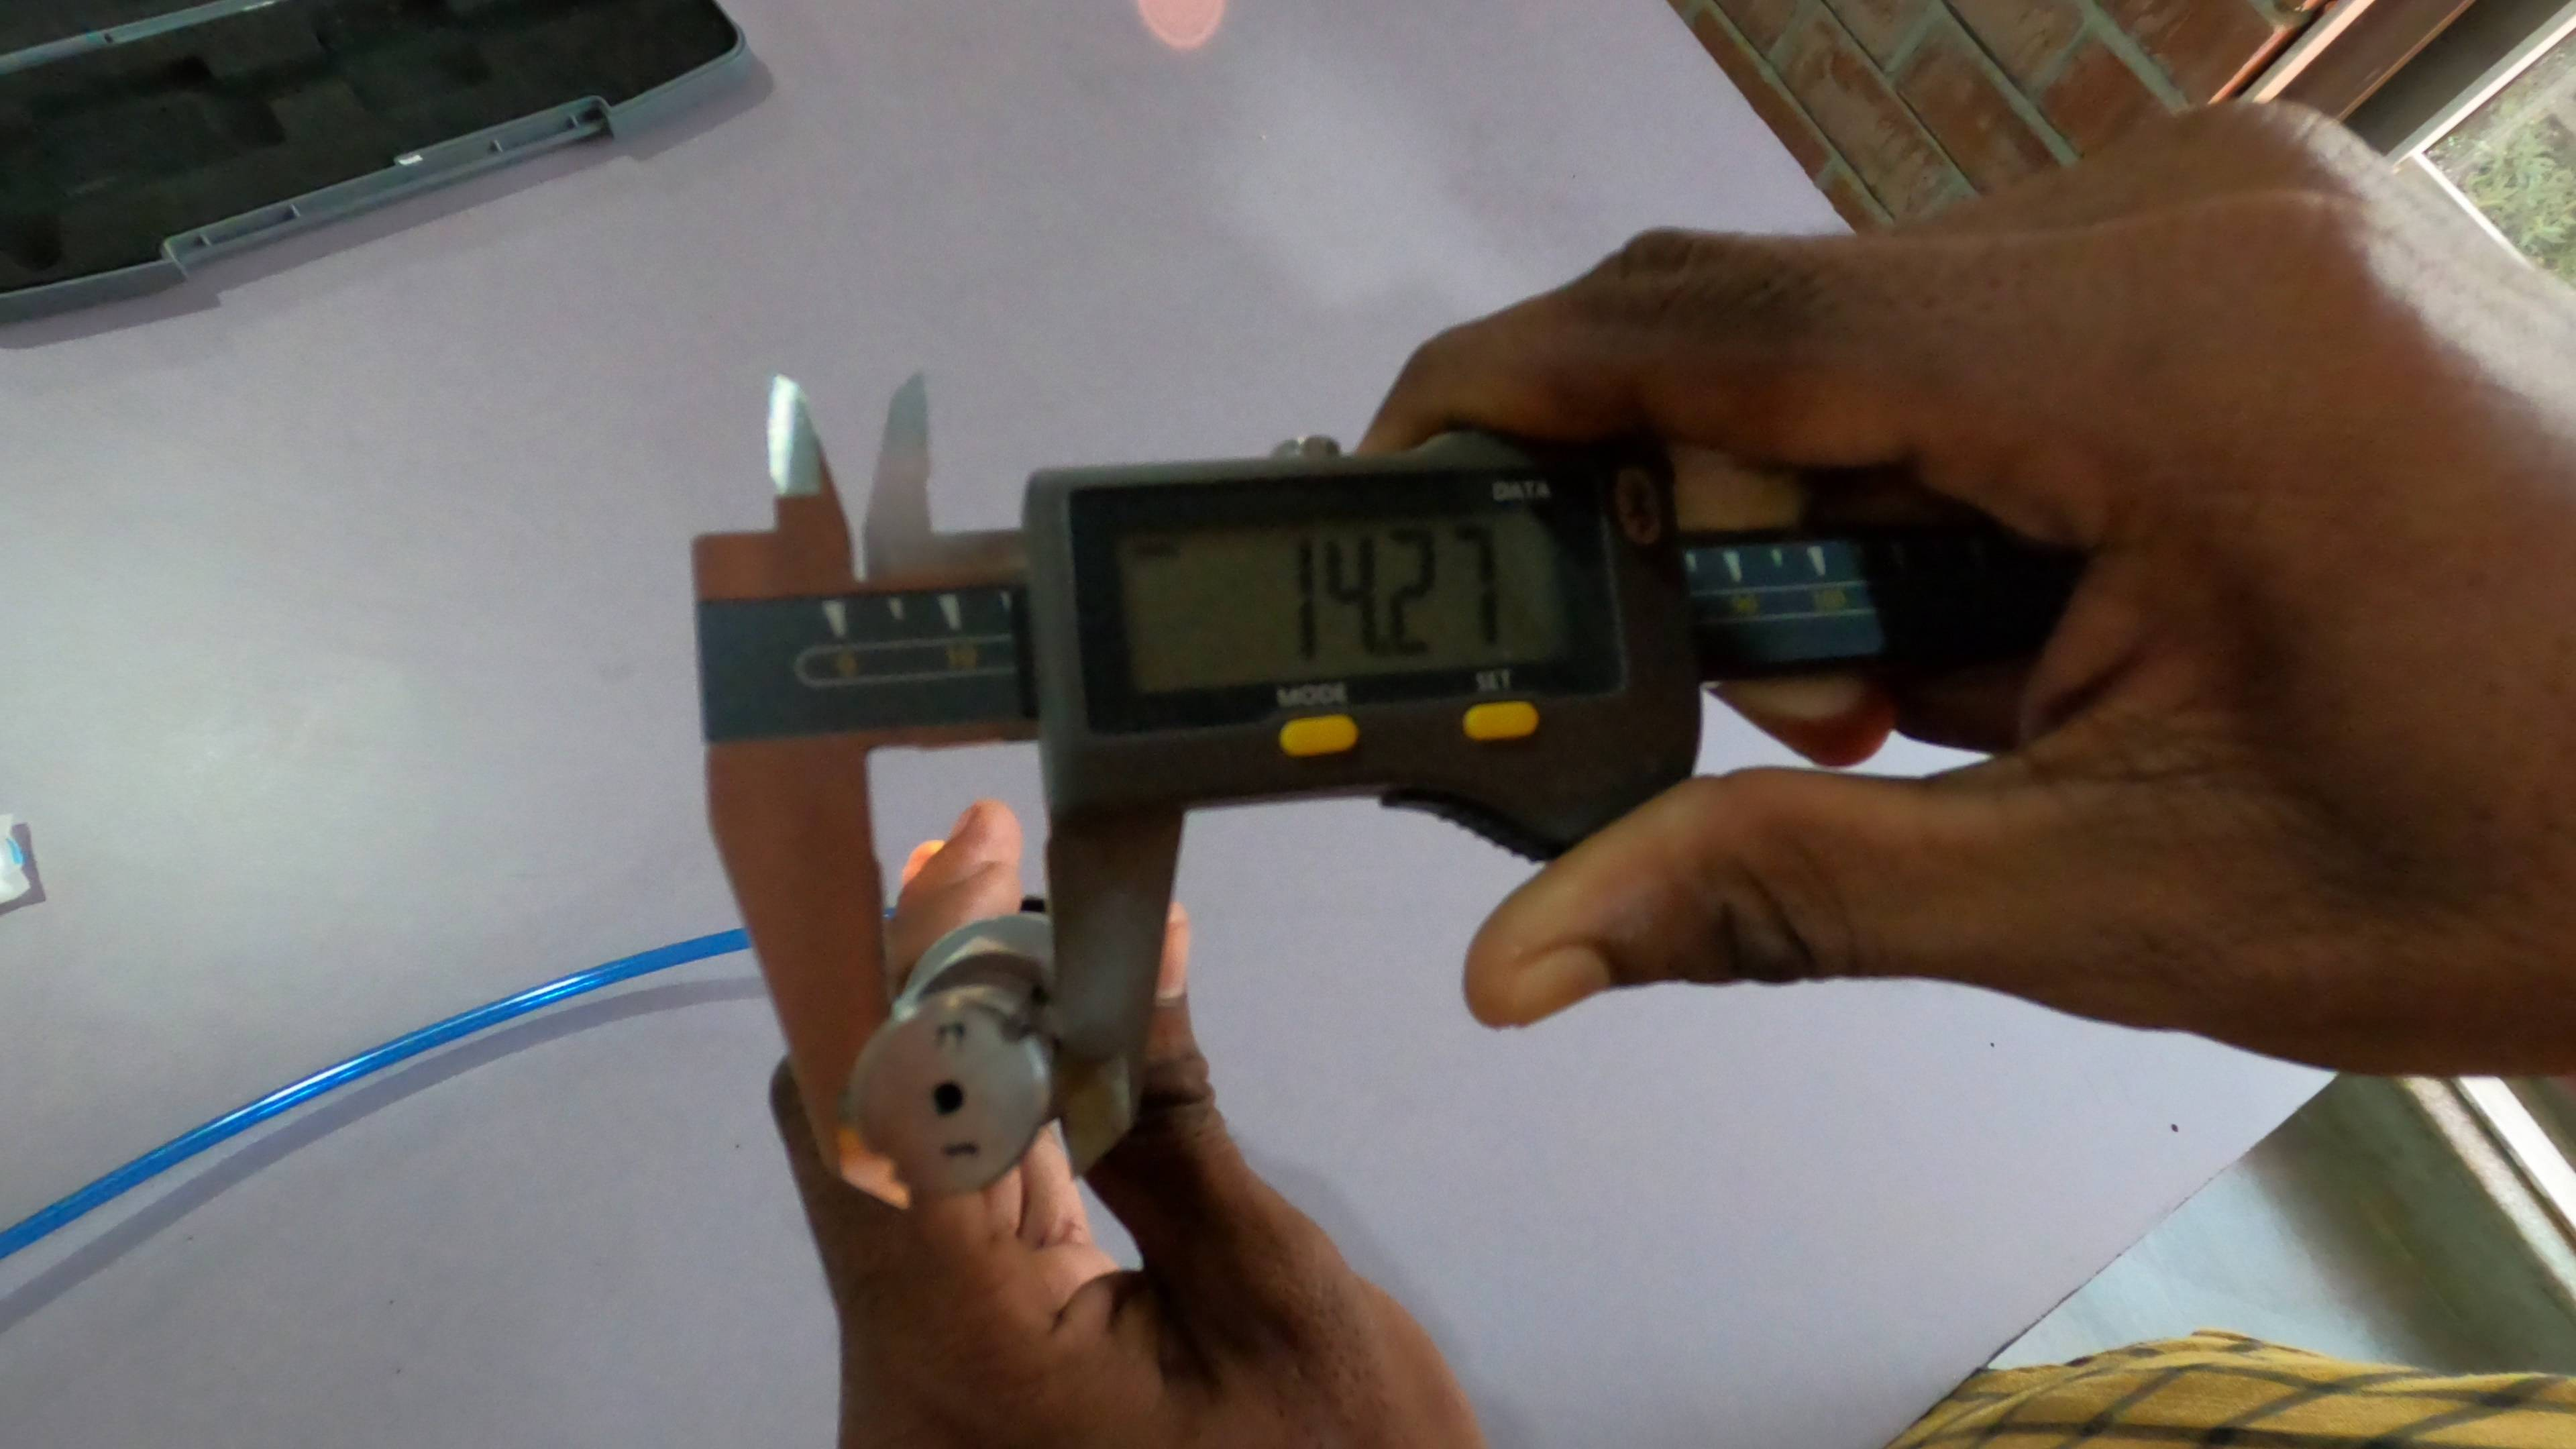vernier_caliper: (686, 370, 2052, 1214)
